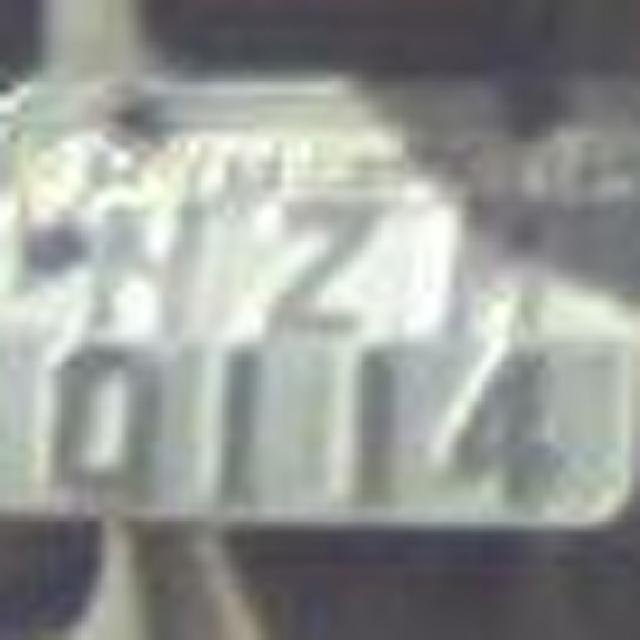0: (32, 332, 188, 508)
1: (296, 328, 444, 504), (172, 332, 308, 508)
3: (428, 320, 604, 508)
N: (75, 172, 220, 356)
Z: (248, 180, 400, 340)
